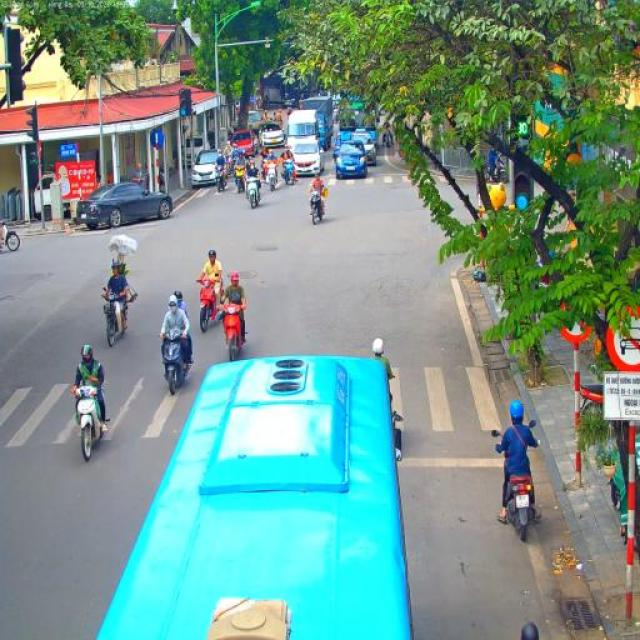bus: (94, 352, 414, 640), (336, 89, 380, 143)
car: (76, 180, 172, 230), (284, 137, 325, 178), (335, 140, 369, 180), (190, 149, 226, 186), (349, 129, 378, 166), (231, 130, 254, 164)
motorcycle: (491, 419, 543, 541), (68, 374, 111, 462), (100, 287, 138, 348), (158, 332, 194, 396), (213, 302, 249, 362), (195, 272, 224, 332), (0, 218, 21, 252), (311, 186, 327, 225), (490, 155, 510, 183), (264, 157, 280, 191), (246, 176, 262, 209), (282, 158, 298, 186), (234, 162, 247, 194), (214, 164, 227, 195), (382, 128, 393, 148), (226, 156, 235, 179)
truck: (298, 96, 334, 149), (285, 109, 327, 151), (260, 120, 286, 160), (247, 109, 263, 139)
